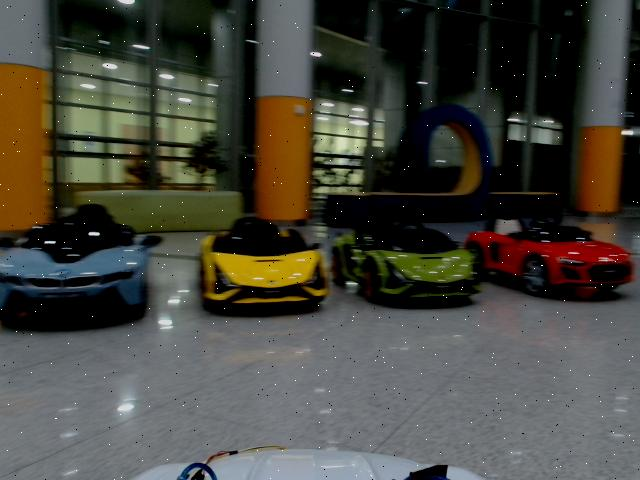car: (1, 205, 162, 321), (464, 208, 632, 294), (332, 214, 478, 303), (201, 216, 328, 312)
